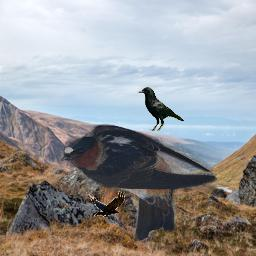Crow: (137, 87, 184, 131), (87, 191, 125, 218)
Swallow: (59, 122, 219, 241)
